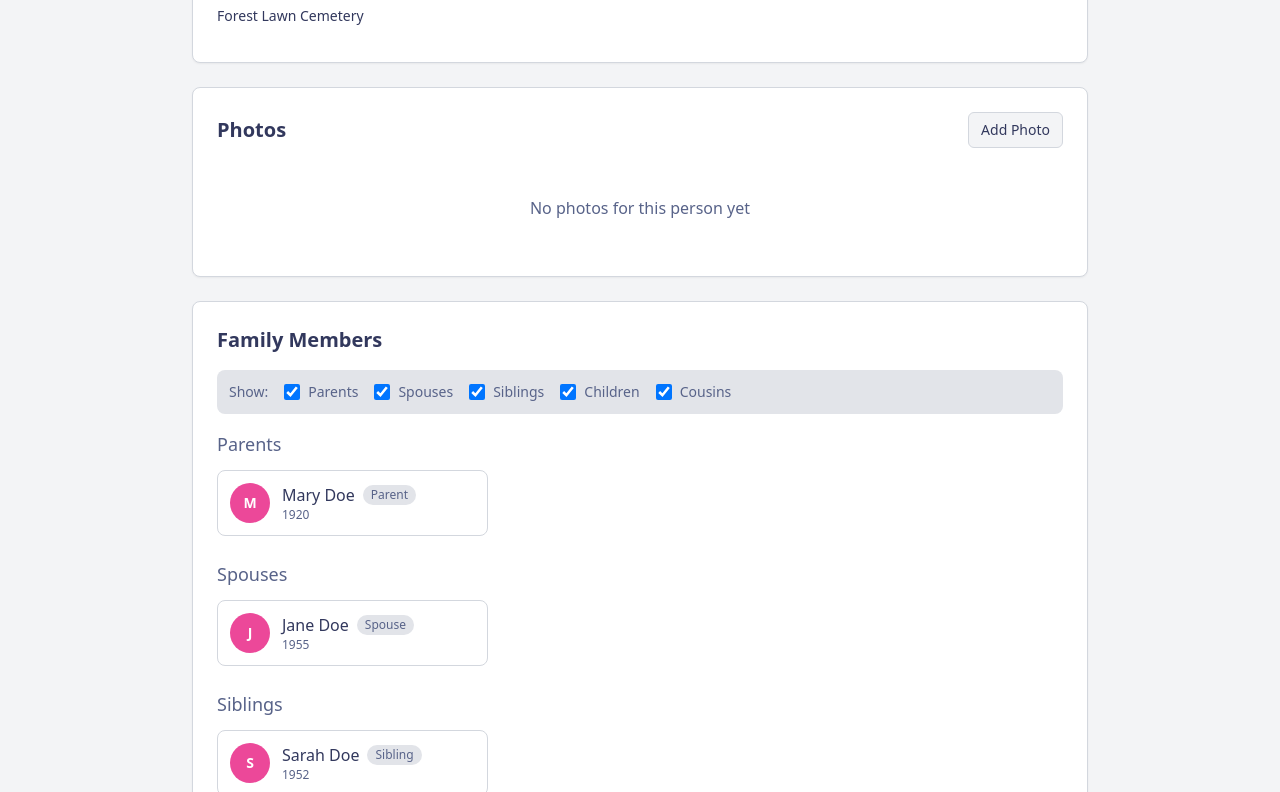
Test: PersonPage › relationship filter controls › should hide relatives when filter is unchecked
(page scrolled)
Expected: the text "Sarah Doe" is shown, [282, 743, 360, 767]
// Uncheck siblings filter
Click the checkbox labelled "Siblings": (477, 392) [469, 384, 485, 400]
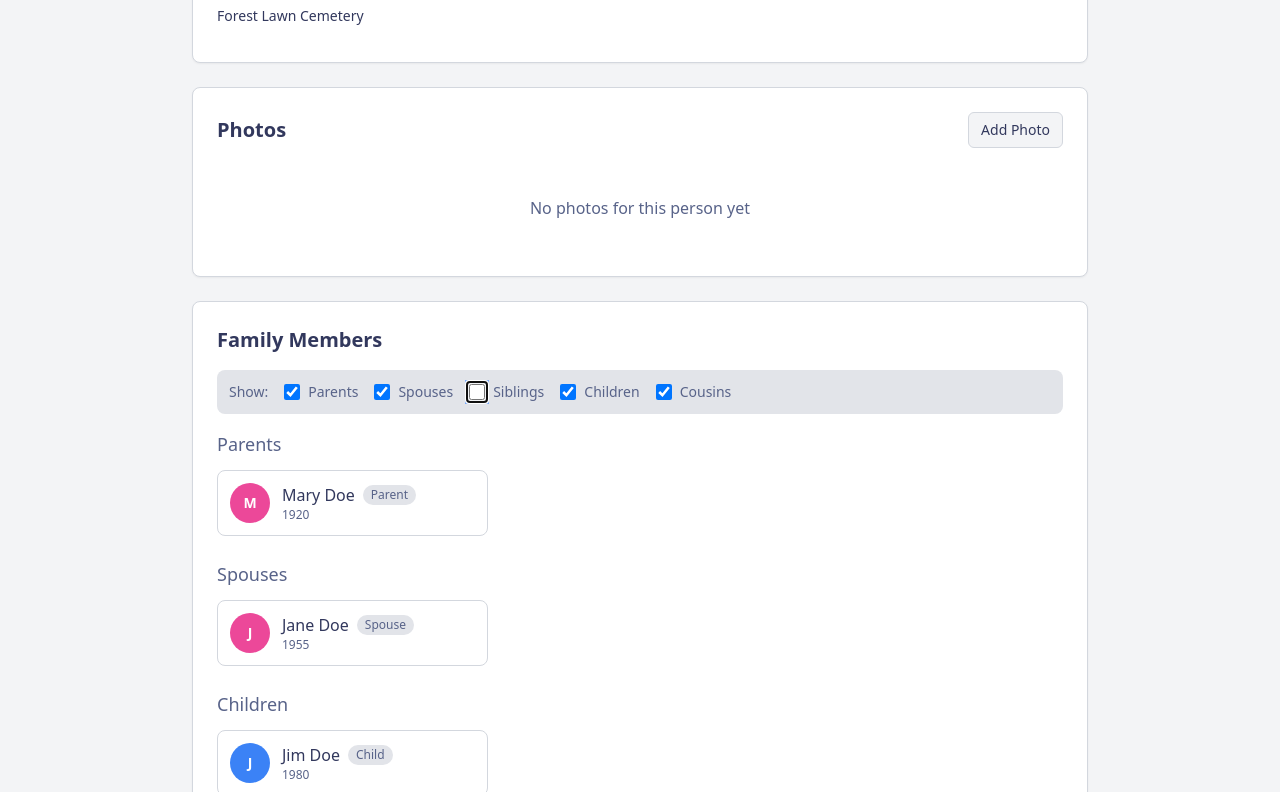
Expected: the link "Sarah Doe" is gone
